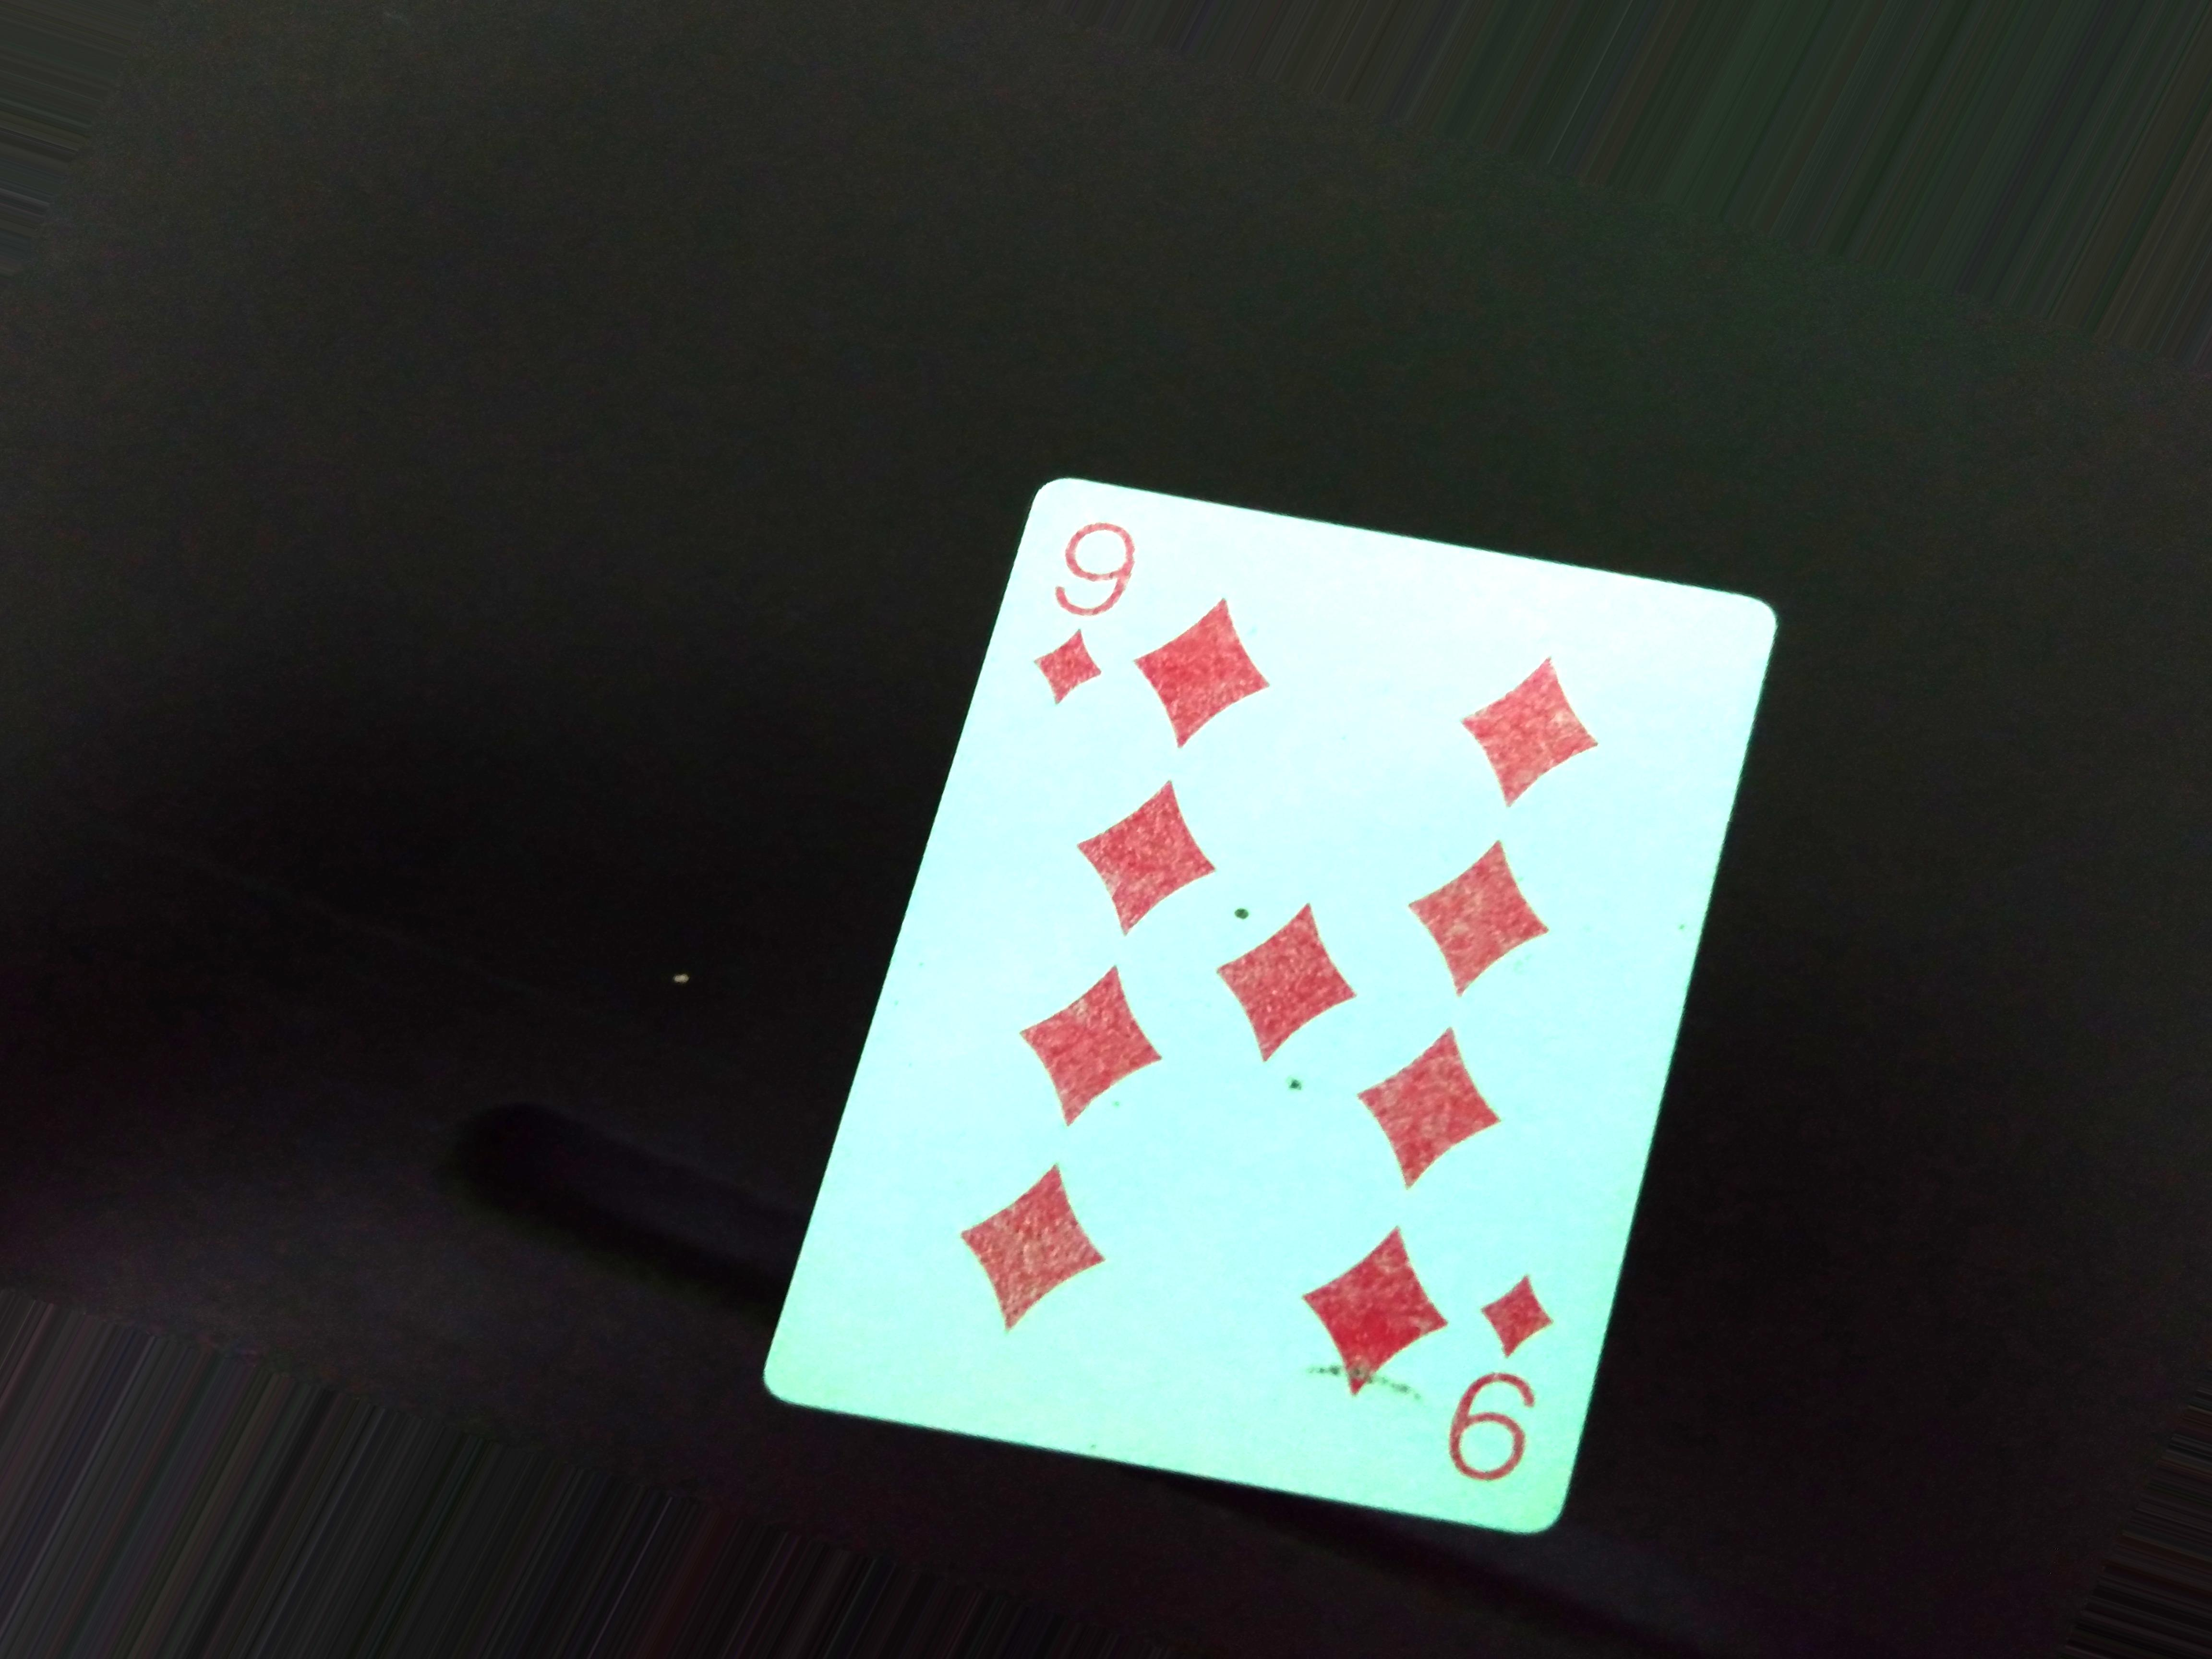9D: (1437, 1263, 1566, 1481)
